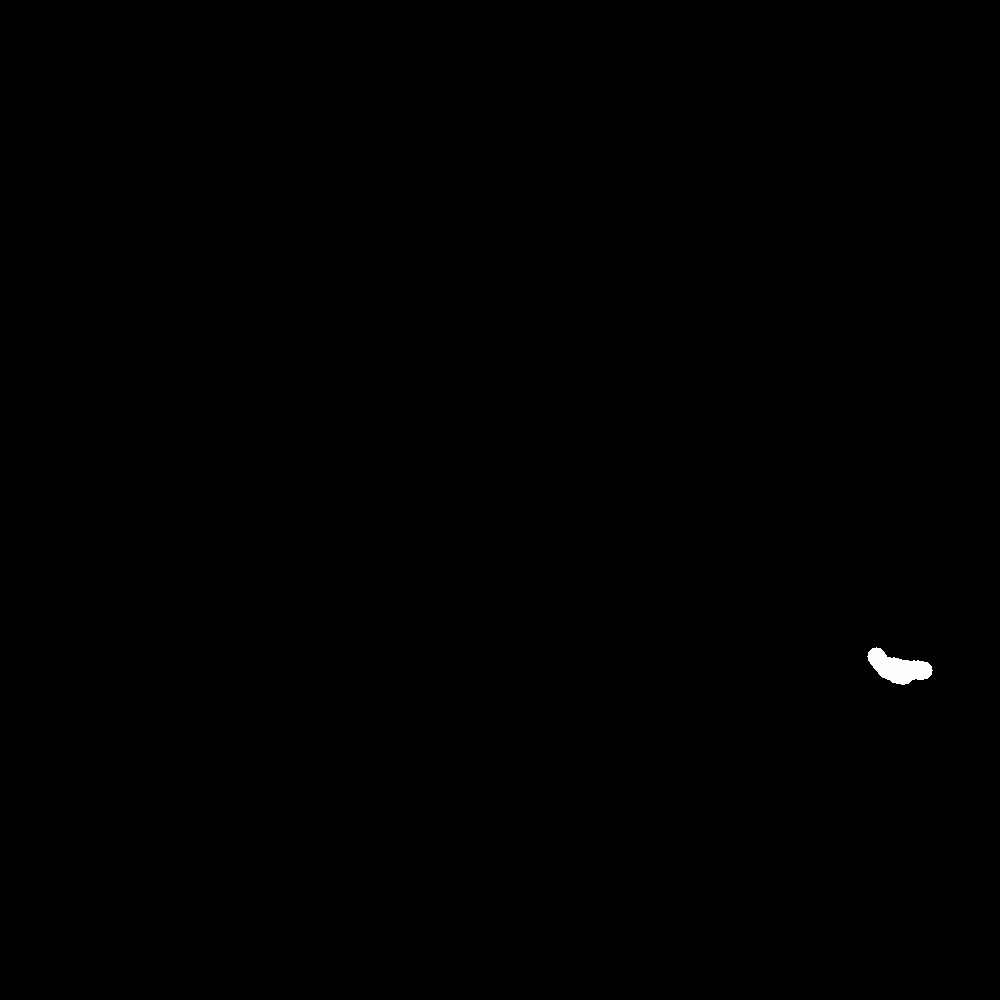illegal: (875, 652, 925, 685)
